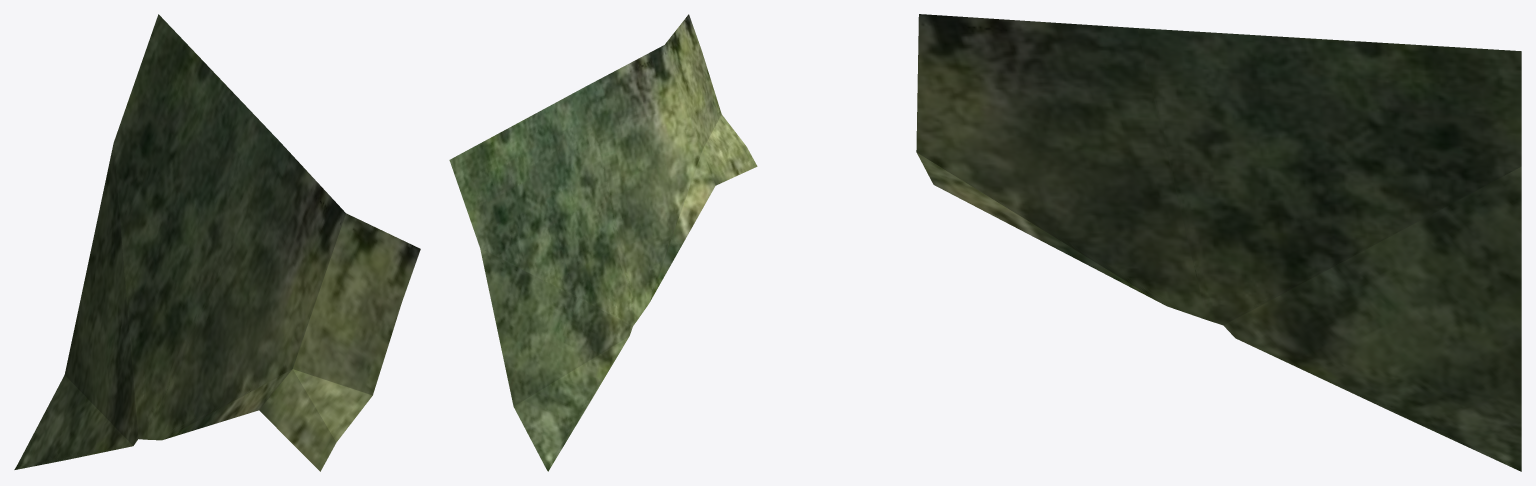
The picture shows the model from 3 angles, left to right: view 1: azimuth 30°, elevation 25°; view 2: azimuth 150°, elevation 25°; view 3: azimuth 270°, elevation 25°; orthographic projection. The views are drawn at different scales.
Size of the model in its own units: 1.61 by 4.47 by 5.9.
2 materials, 2 textured.
